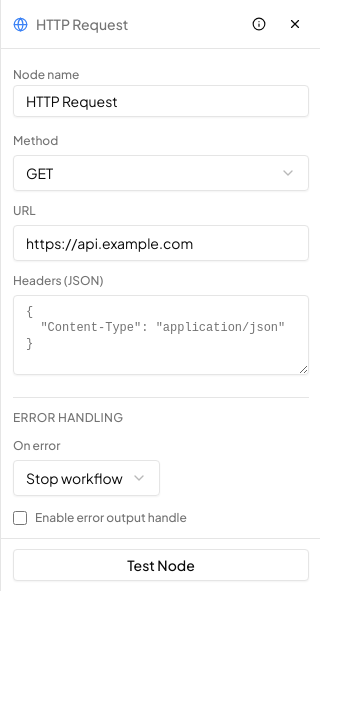
ConfigPanel – Test Node button › shows the output panel after a successful test
Click the button "Test Node" at (161, 565), box [13, 549, 309, 581]
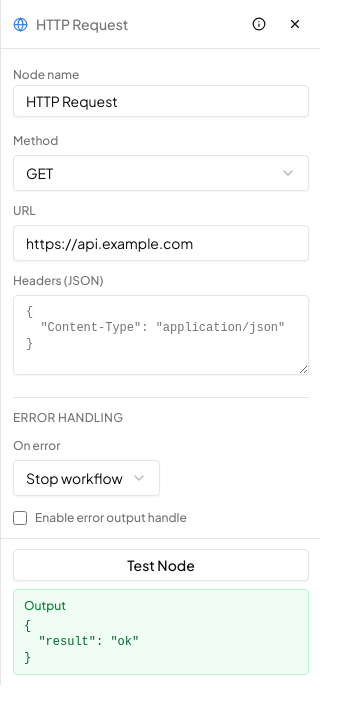
expect the text "Output" is shown: met, box [24, 598, 66, 613]
expect the text "{ \"result\": \"ok\" }" is shown: met, box [24, 619, 139, 665]
